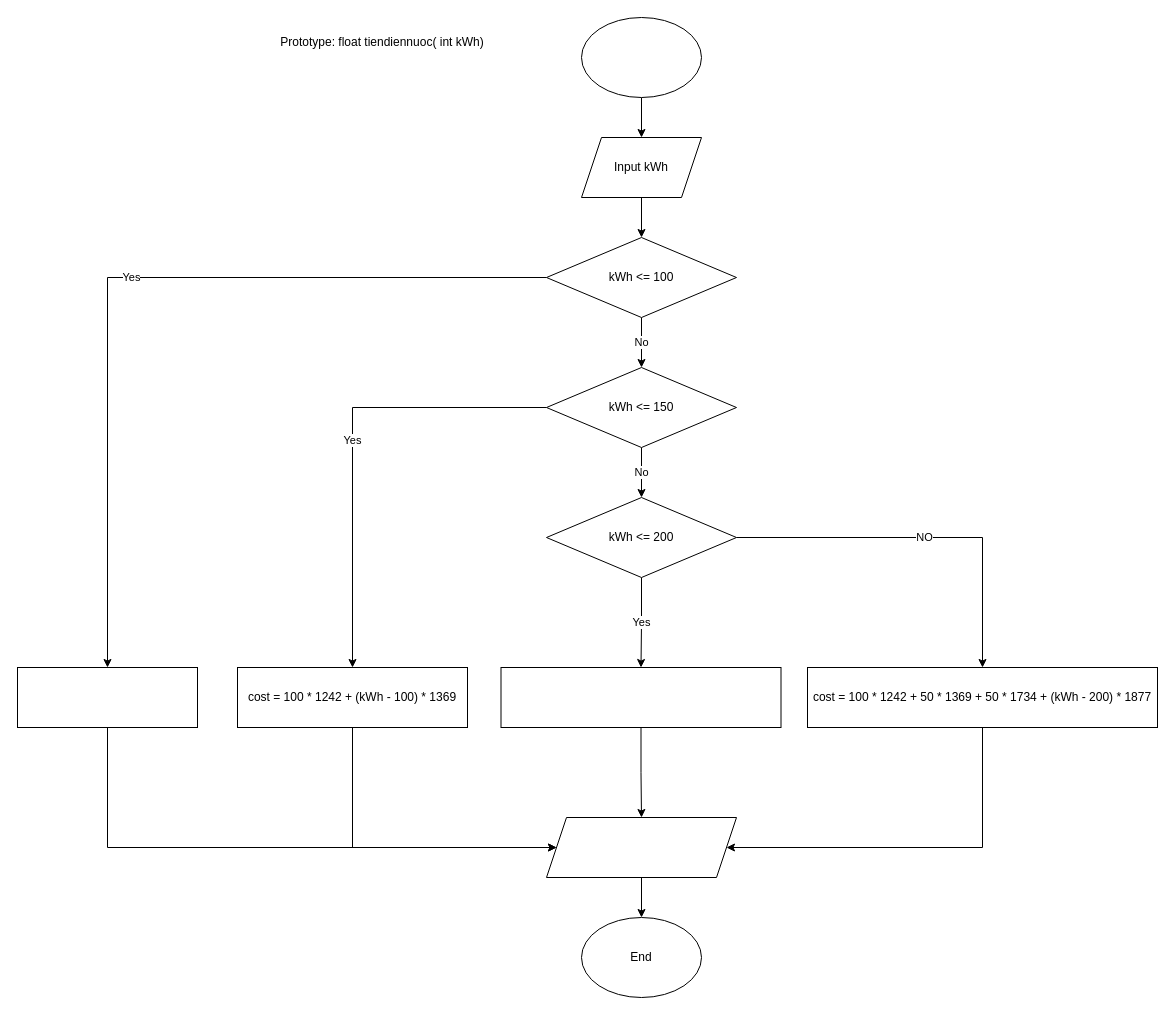
Image size: 1175x1015. Some labels were removed from this diagram. Here are the shapes that lost their labels. From the top down, the centre of each, then its label:
point (641, 57): Start
point (107, 697): cost = kWh * 1242
point (640, 697): cost = 100 * 1242 + 50 * 1369 + (kWh - 150) * 1734
point (641, 847): Display cost
